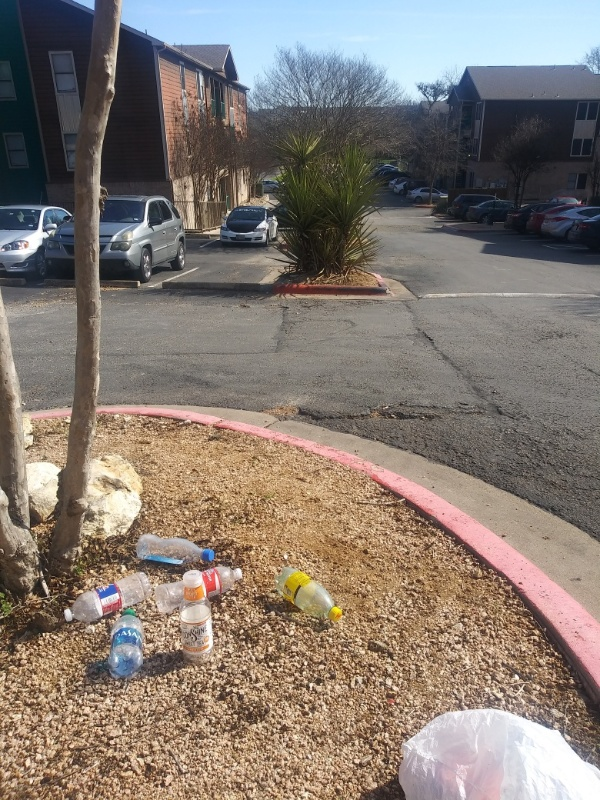bottle: (153, 559, 249, 624), (60, 570, 152, 625), (271, 565, 344, 630), (175, 567, 219, 666), (101, 606, 150, 680), (130, 532, 217, 569)
